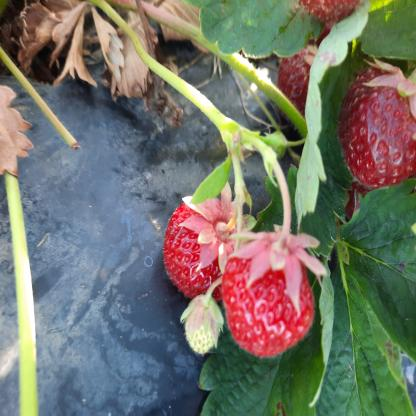ripe: (218, 235, 314, 351), (337, 66, 416, 187), (157, 190, 241, 292), (278, 44, 324, 116), (298, 2, 363, 44)
unripe: (186, 295, 222, 355)
